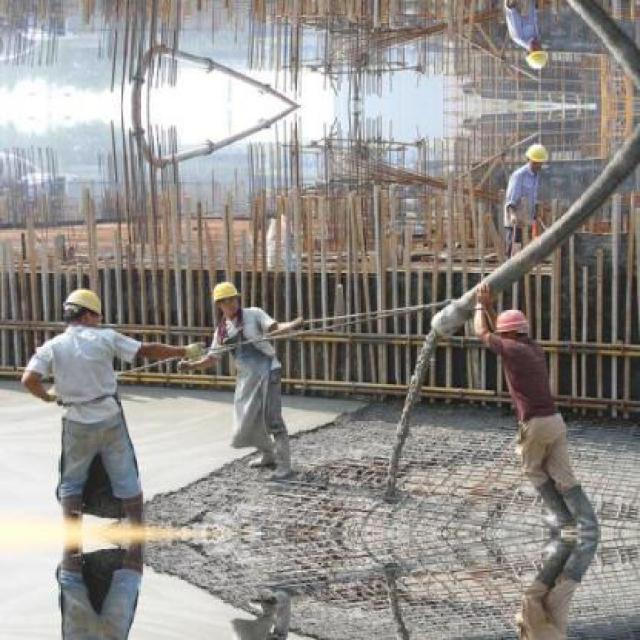helmet: (62, 285, 105, 327), (491, 306, 531, 346), (208, 278, 242, 319), (523, 139, 548, 173), (523, 40, 548, 74)
